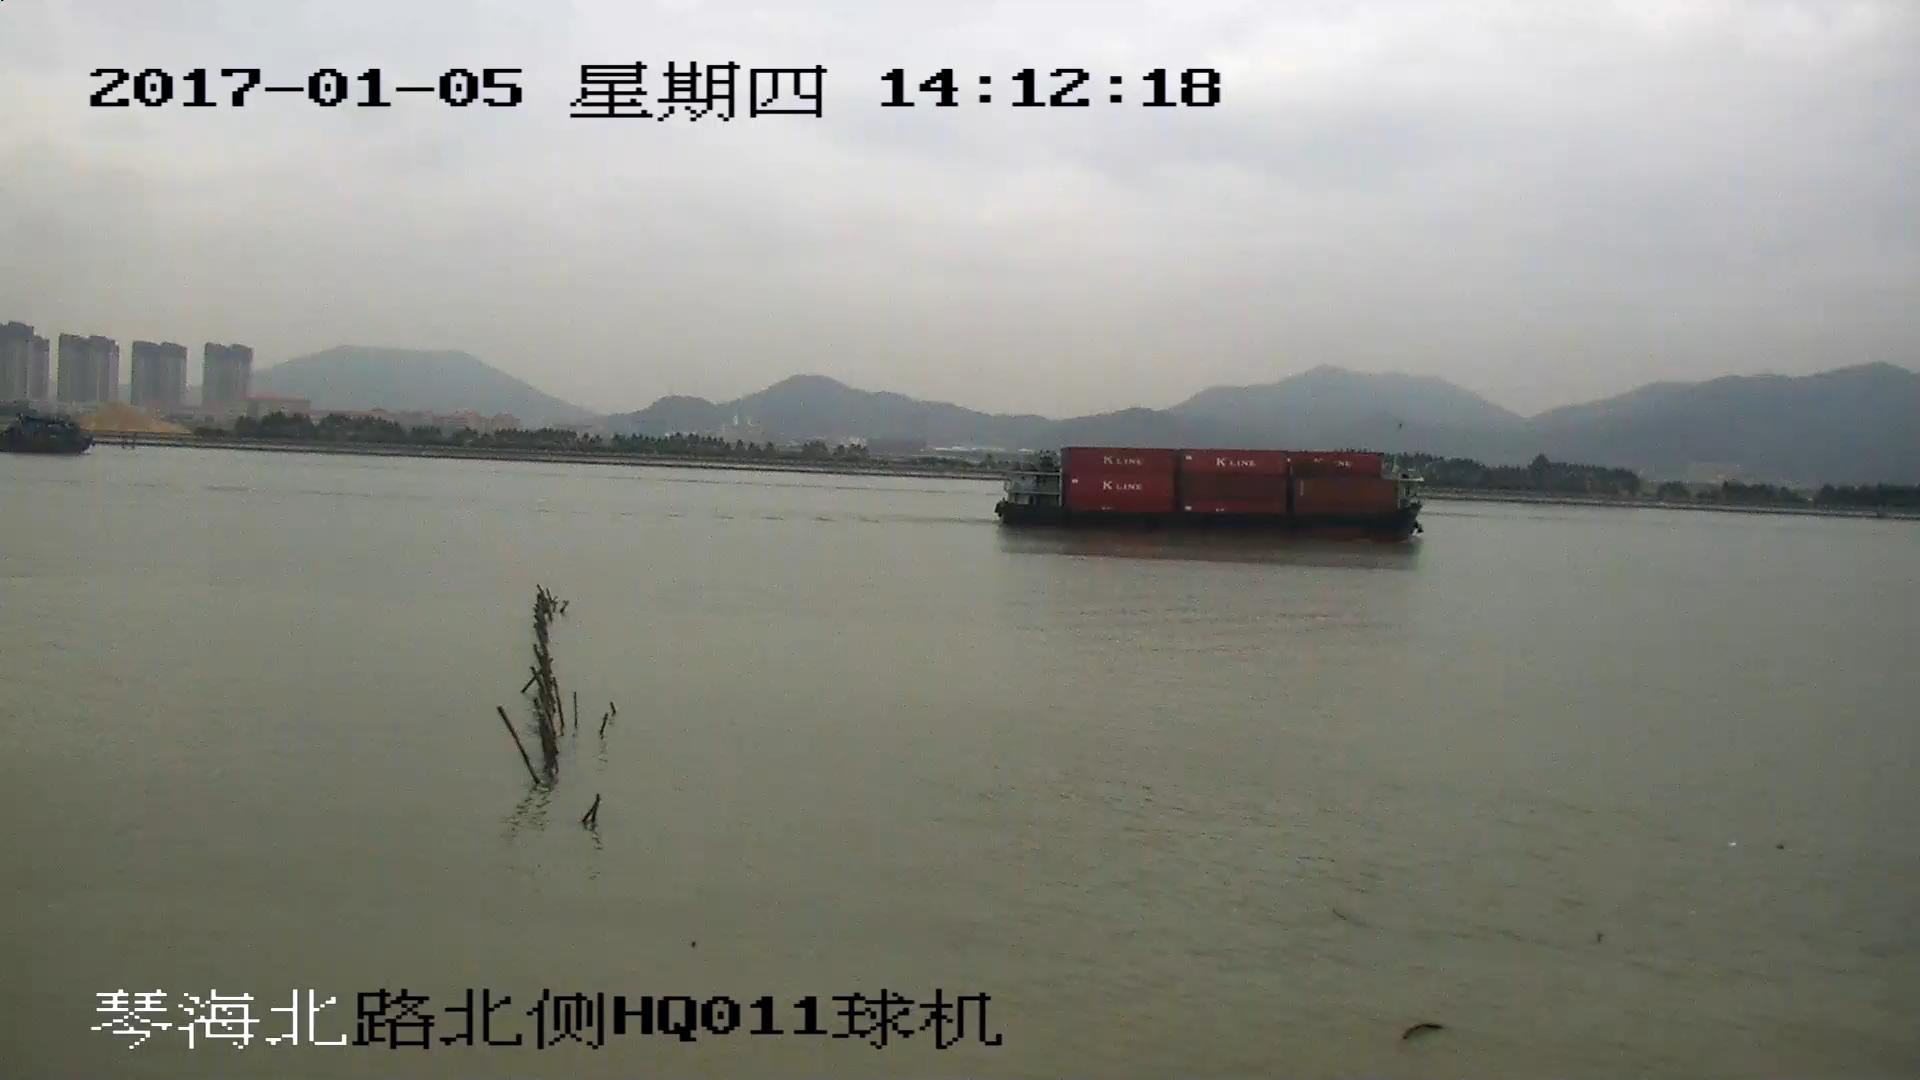container ship: (990, 445, 1425, 542)
